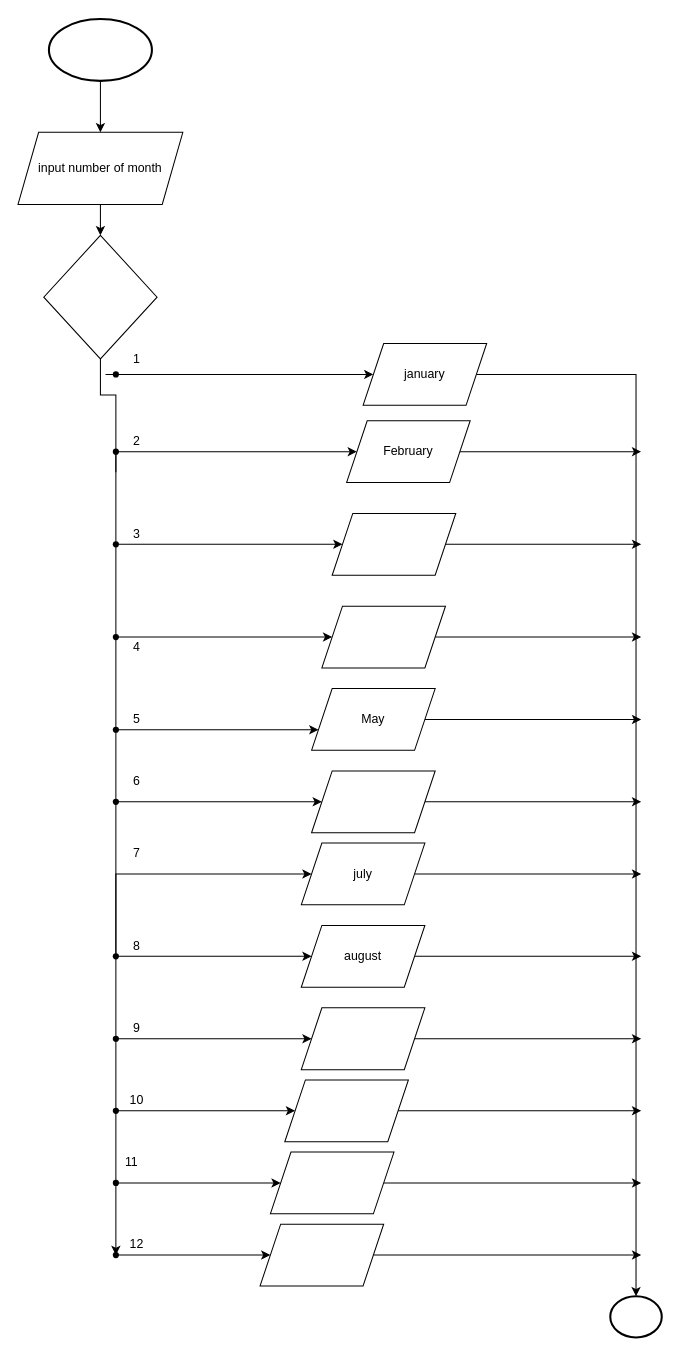
The diagram is 681 pixels wide and 1355 high, and some of its shapes have lost their labels. The shapes that lost their labels are listed below. From the top down, each one's box as (x1, y1, x2, y2) in pixels, then its label:
(47, 18, 152, 81): Start
(43, 234, 157, 359): number months
(331, 512, 456, 575): March
(321, 605, 445, 668): April
(311, 770, 435, 833): june
(300, 1007, 425, 1070): September
(284, 1079, 408, 1142): October
(269, 1151, 394, 1214): November
(259, 1223, 384, 1286): December
